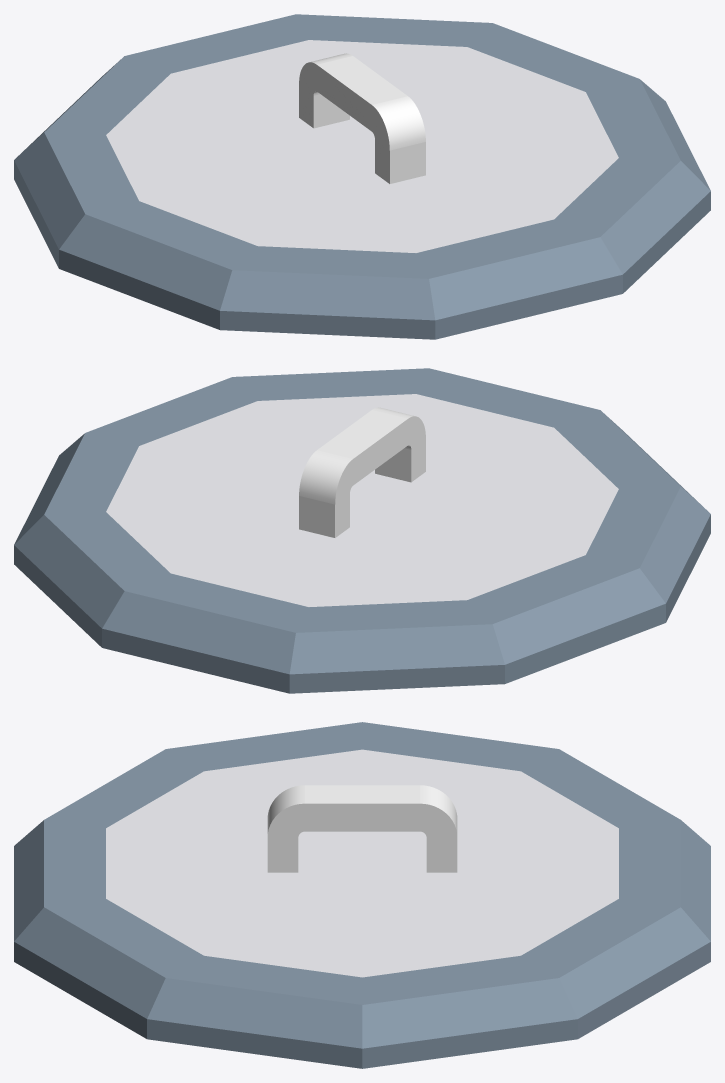
Rendered from potStewLid.dae.
The picture shows the model from 3 angles, top to bottom: view 1: azimuth 30°, elevation 25°; view 2: azimuth 150°, elevation 25°; view 3: azimuth 270°, elevation 25°; orthographic projection. The views are drawn at different scales.
Parts seen in each view (by area): view 1: potStewLid; view 2: potStewLid; view 3: potStewLid.
Part boxes in pixels (x1,y1,x2,y2): potStewLid: (14, 14, 710, 339); potStewLid: (14, 368, 710, 693); potStewLid: (14, 722, 710, 1068).
Size of the model in its own units: 0.6575 by 0.1184 by 0.6253.
